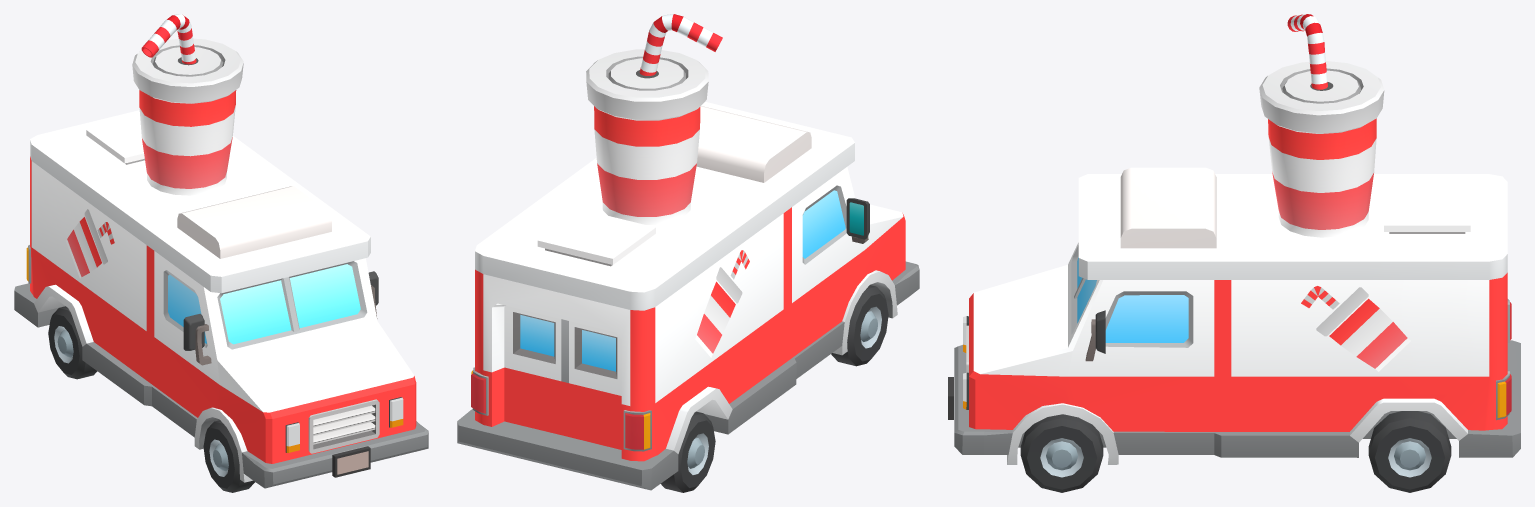
The model's file is Soda_Cargo_01.glb.
3 renders of one model, left to right at view 1: azimuth 30°, elevation 25°; view 2: azimuth 150°, elevation 25°; view 3: azimuth 270°, elevation 25°, orthographic. The views are drawn at different scales.
Parts seen in each view (by area): view 1: Soda_Cargo_01, Wheel_217, Wheel_218; view 2: Soda_Cargo_01, Wheel_217, Wheel_218; view 3: Soda_Cargo_01, Wheel_220, Wheel_219.
Part boxes in pixels (left/top/right/bottom): Soda_Cargo_01: left=14, top=14, right=428, bottom=488; Wheel_217: left=203, top=420, right=254, bottom=492; Wheel_218: left=48, top=306, right=97, bottom=379; Soda_Cargo_01: left=457, top=14, right=919, bottom=490; Wheel_217: left=831, top=285, right=888, bottom=366; Wheel_218: left=661, top=411, right=715, bottom=492; Soda_Cargo_01: left=948, top=14, right=1520, bottom=464; Wheel_220: left=1368, top=411, right=1451, bottom=492; Wheel_219: left=1020, top=414, right=1103, bottom=492.
Size of the model in its own units: 2.4 by 4.53 by 5.53.
2 materials, 2 textured.
